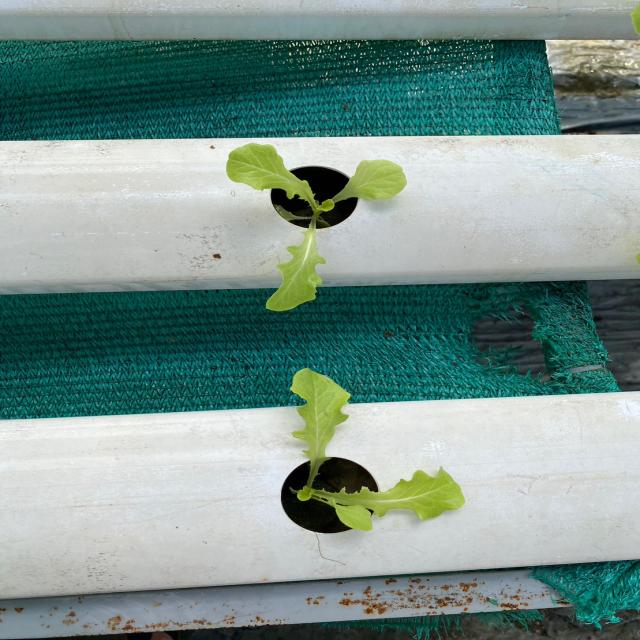Lettuce-Not-Ready-to-Harvest: (211, 136, 413, 313), (279, 364, 469, 544)
